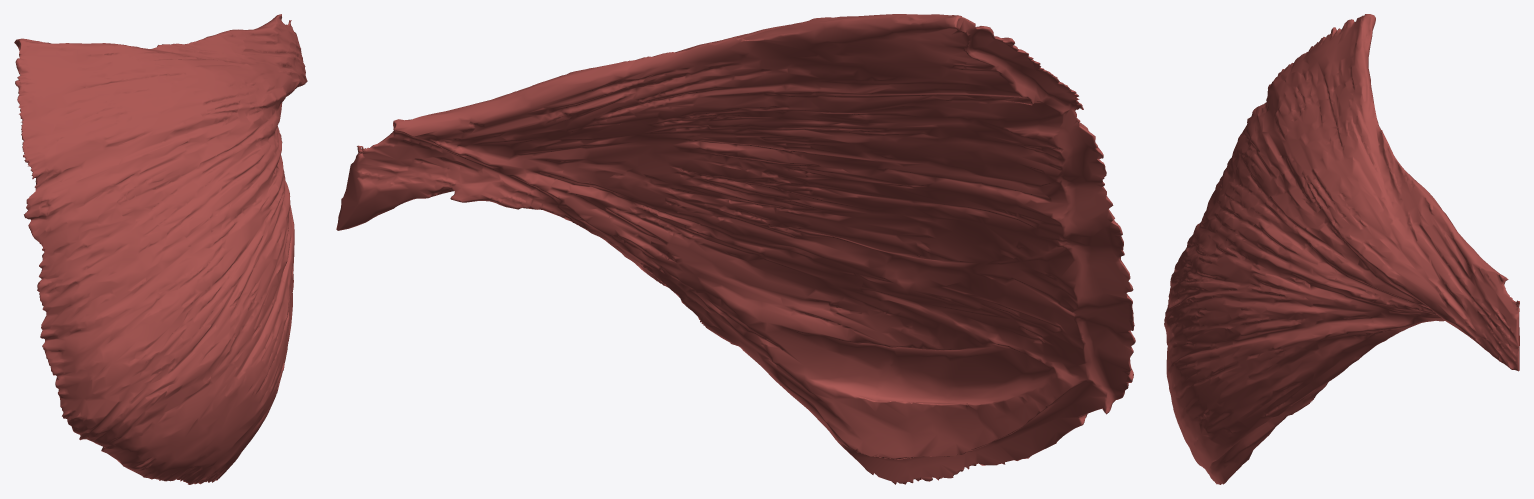
File: FMA79980.glb
3 renders of one model, left to right at view 1: azimuth 30°, elevation 25°; view 2: azimuth 150°, elevation 25°; view 3: azimuth 270°, elevation 25°, orthographic. The views are drawn at different scales.
Parts seen in each view (by area): view 1: FMA79980; view 2: FMA79980; view 3: FMA79980.
Part boxes in pixels (left/top/right/bottom): FMA79980: left=14, top=14, right=307, bottom=484; FMA79980: left=336, top=14, right=1135, bottom=484; FMA79980: left=1164, top=14, right=1519, bottom=484.
Bounding box in the file's own units: 0.184 × 0.1764 × 0.138.
